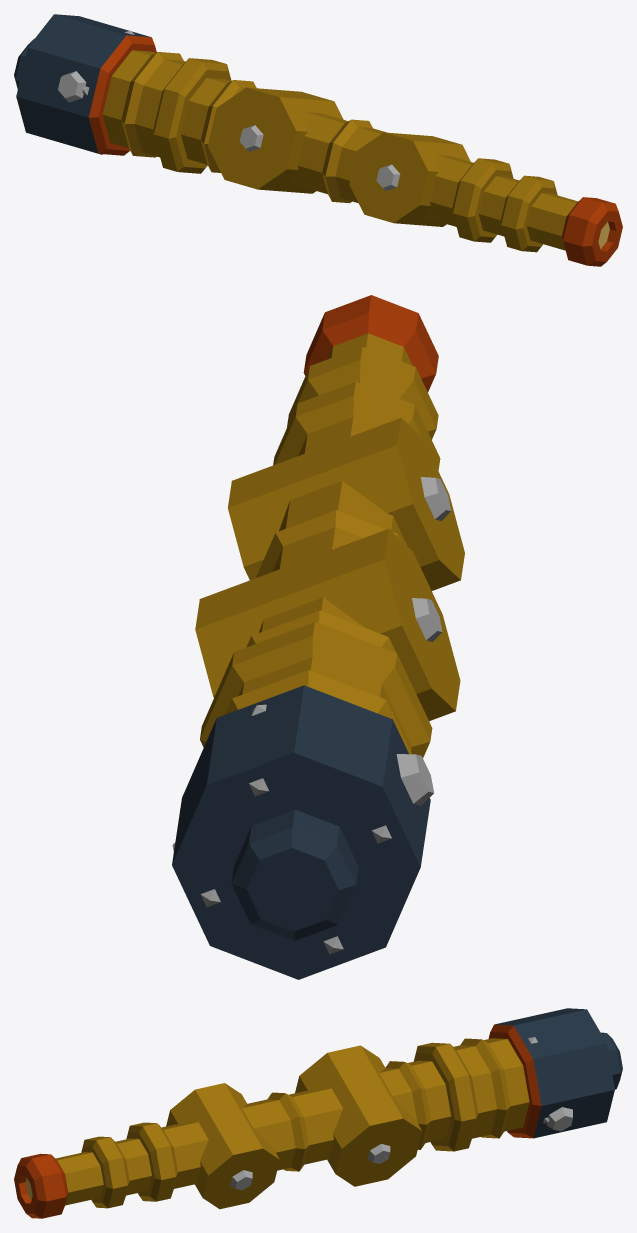
File: telescoping-pinky-07de50.glb
3 renders of one model, top to bottom at view 1: azimuth 30°, elevation 25°; view 2: azimuth 150°, elevation 25°; view 3: azimuth 270°, elevation 25°, orthographic. The views are drawn at different scales.
Visible parts, largest first — view 1: pinky-finger-phalanx-proximal, pinky-finger-phalanx-distal, pinky-finger-phalanx-intermediate; view 2: pinky-finger-phalanx-proximal, pinky-finger-phalanx-intermediate, pinky-finger-phalanx-distal; view 3: pinky-finger-phalanx-proximal, pinky-finger-phalanx-intermediate, pinky-finger-phalanx-distal.
Part boxes in pixels (x1,y1,x2,y2): pinky-finger-phalanx-proximal: (14, 14, 343, 193); pinky-finger-phalanx-distal: (423, 155, 622, 266); pinky-finger-phalanx-intermediate: (289, 112, 470, 226); pinky-finger-phalanx-proximal: (172, 528, 460, 979); pinky-finger-phalanx-intermediate: (228, 418, 464, 590); pinky-finger-phalanx-distal: (273, 295, 440, 470); pinky-finger-phalanx-proximal: (295, 1008, 622, 1186); pinky-finger-phalanx-intermediate: (166, 1083, 343, 1209); pinky-finger-phalanx-distal: (14, 1122, 208, 1218).
Bounding box in the file's own units: 0.0486 × 0.0171 × 0.0817.
